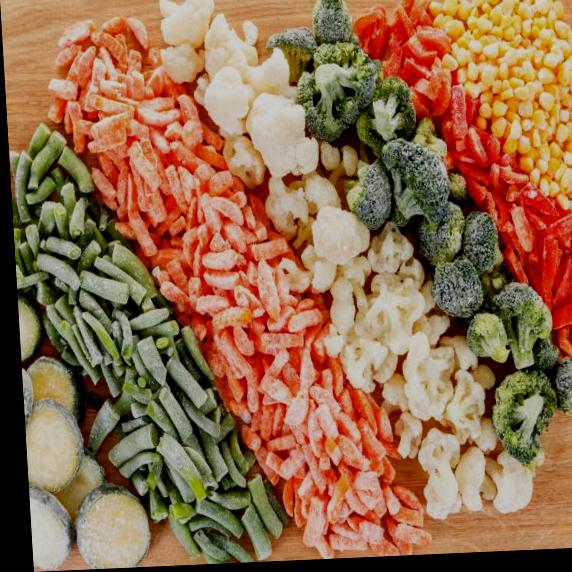Broccoli: (378, 127, 455, 237), (380, 136, 454, 235), (492, 364, 560, 470), (488, 276, 553, 380), (431, 251, 482, 324), (258, 19, 318, 77), (312, 0, 348, 44), (552, 360, 572, 421)
Cauliflower: (381, 301, 546, 525), (153, 0, 292, 123), (249, 92, 327, 192), (311, 200, 369, 296), (209, 8, 272, 90), (152, 35, 208, 99), (154, 0, 218, 51)
Sweetcorn: (431, 0, 572, 110), (511, 71, 556, 152), (459, 3, 510, 73), (542, 119, 572, 231), (523, 0, 561, 80), (551, 55, 572, 119), (526, 112, 553, 150), (499, 0, 542, 22), (439, 0, 459, 25), (487, 92, 508, 111), (500, 21, 519, 41), (503, 74, 517, 88)
